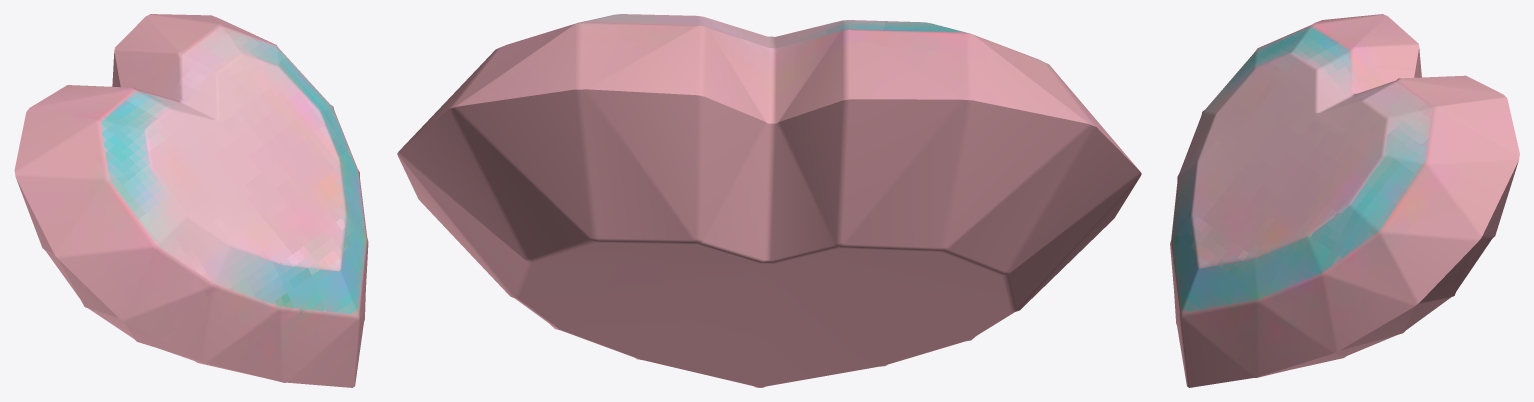
File: heart.glb
The picture shows the model from 3 angles, left to right: view 1: azimuth 30°, elevation 25°; view 2: azimuth 150°, elevation 25°; view 3: azimuth 270°, elevation 25°; orthographic projection. The views are drawn at different scales.
Size of the model in its own units: 3.35 by 2.4 by 2.73.
Materials: 1 (1 with a texture image).
